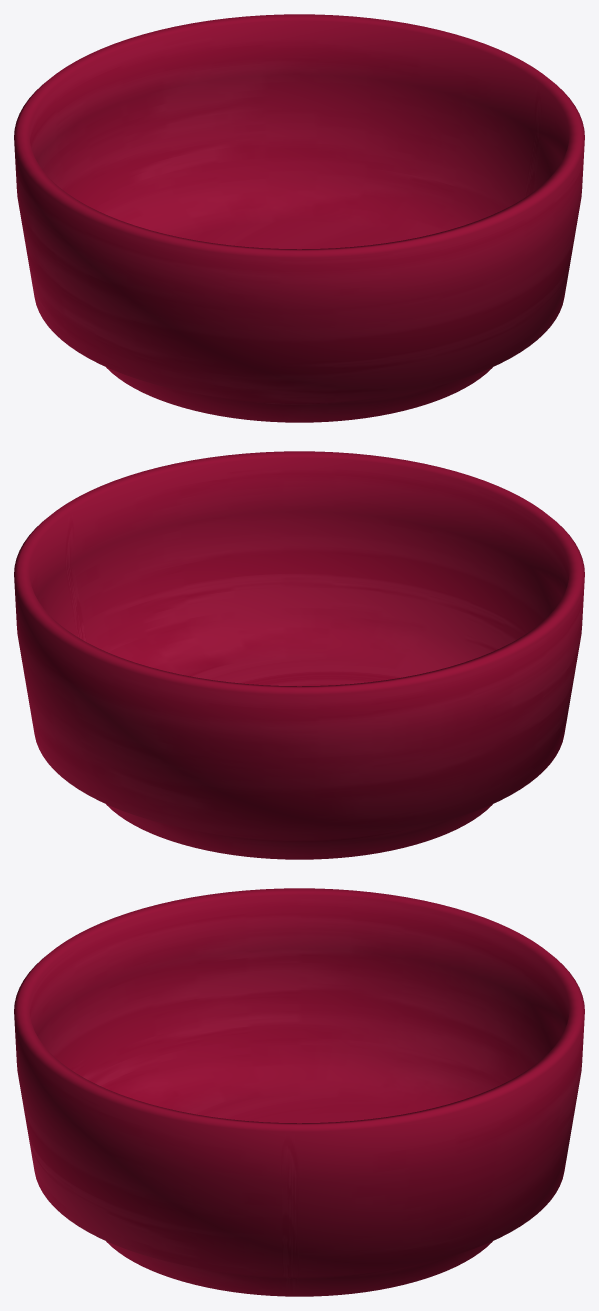
Rendered from dishware__colored_small_bowl.glb.
The picture shows the model from 3 angles, top to bottom: view 1: azimuth 30°, elevation 25°; view 2: azimuth 150°, elevation 25°; view 3: azimuth 270°, elevation 25°; orthographic projection.
Parts seen in each view (by area): view 1: body; view 2: body; view 3: body.
Part boxes in pixels (x1=…): body: x1=14, y1=14, x2=584, y2=422; body: x1=14, y1=451, x2=584, y2=859; body: x1=14, y1=888, x2=584, y2=1296.
Bounding box in the file's own units: 0.118 × 0.046 × 0.118.
1 material, 1 textured.
